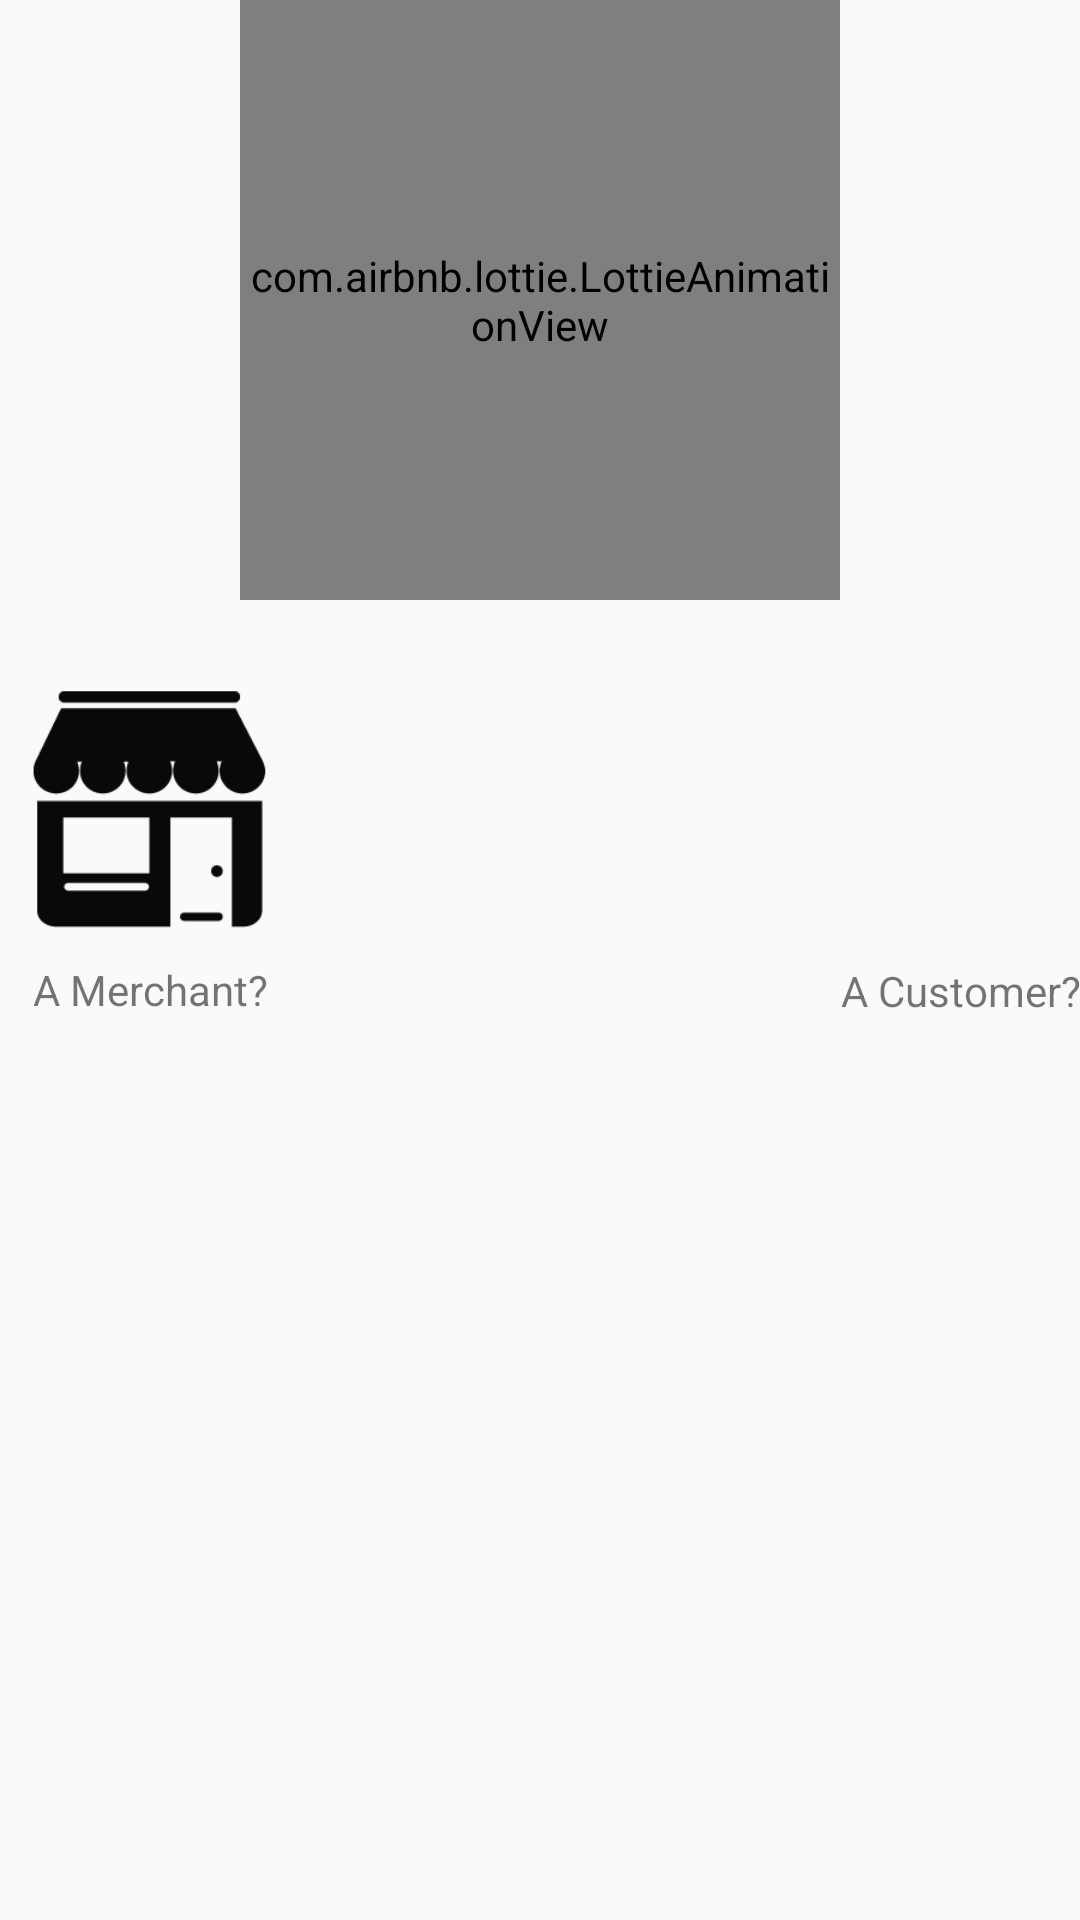

Where to tap for icons on this 1080px x 1920px app screen, as [x,y]:
store: [149,809]
